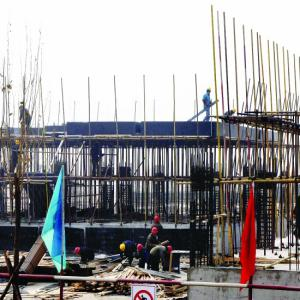red: (152, 226, 159, 238), (75, 247, 82, 257), (137, 244, 144, 254), (166, 246, 173, 255), (154, 216, 161, 224)
yellow: (120, 243, 126, 253), (15, 139, 21, 147), (207, 87, 212, 95), (232, 108, 237, 116)
